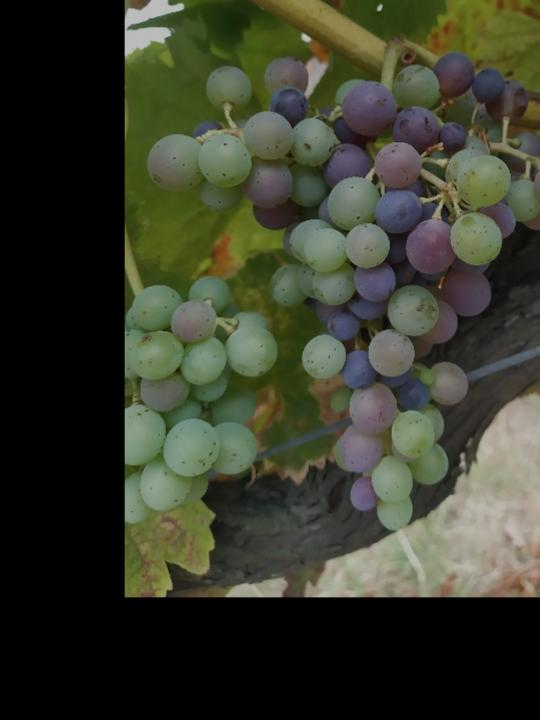grape: (147, 55, 540, 534)
